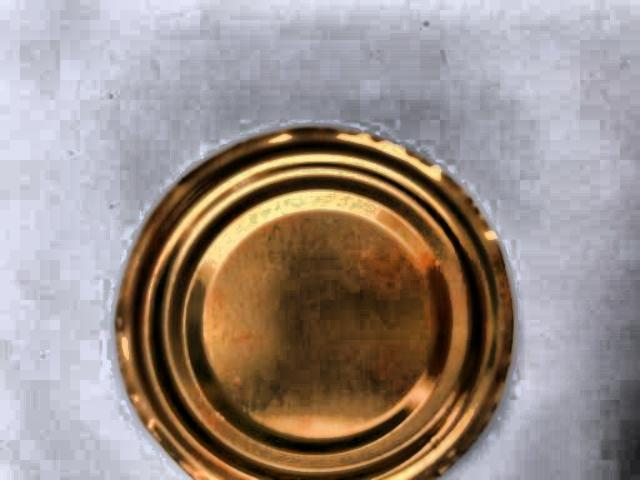Almennt: (88, 109, 521, 480)
